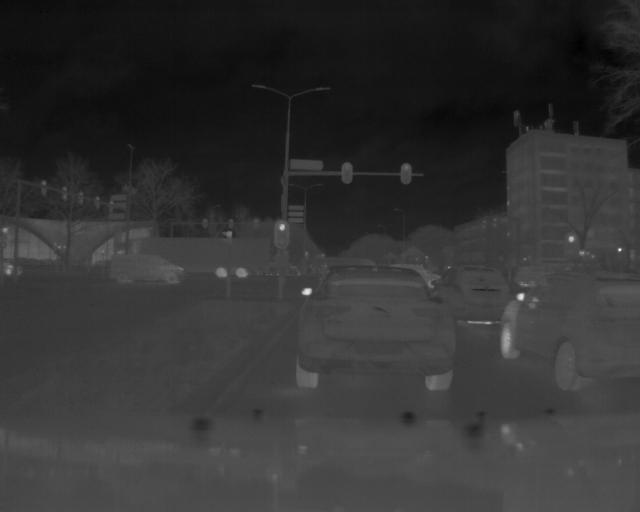car: (294, 264, 458, 393), (498, 269, 640, 393), (109, 249, 191, 287)
